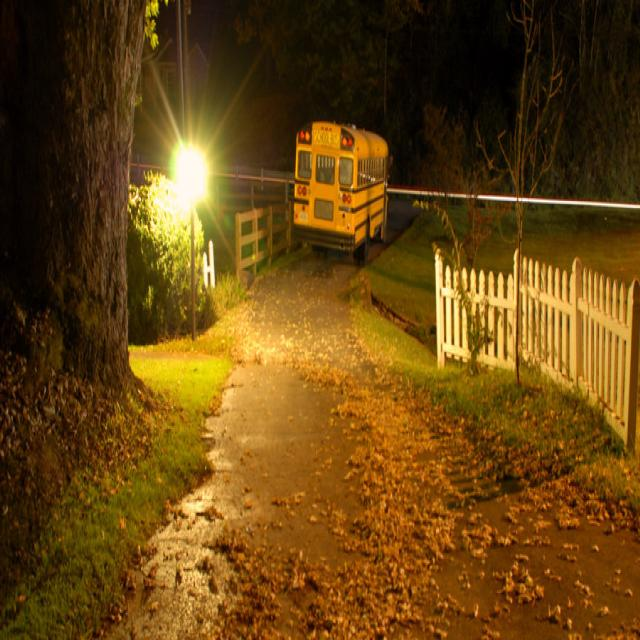car: (294, 111, 411, 275)
